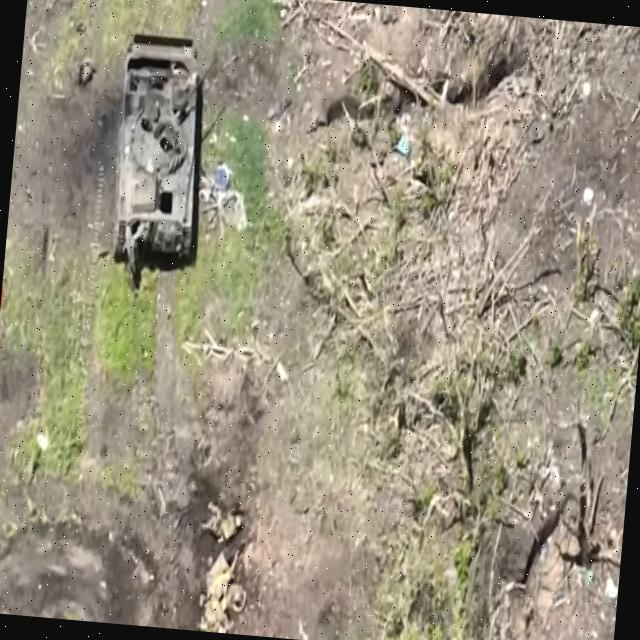Destroyed: (102, 30, 218, 289)
